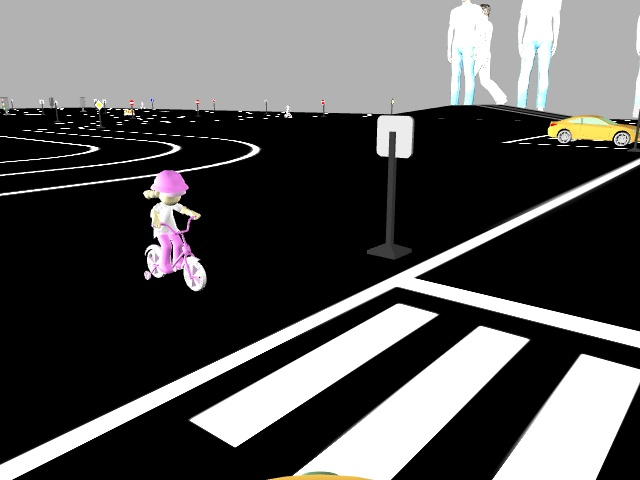Pedestrian: (138, 166, 211, 298)
